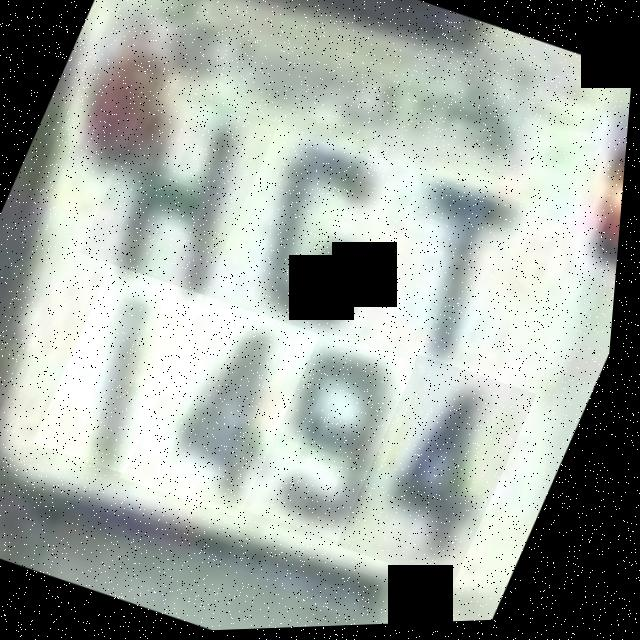1: (39, 262, 210, 478)
4: (343, 355, 547, 592), (125, 292, 329, 524)
9: (238, 326, 436, 552)
H: (81, 79, 284, 301)
T: (351, 165, 562, 395)
